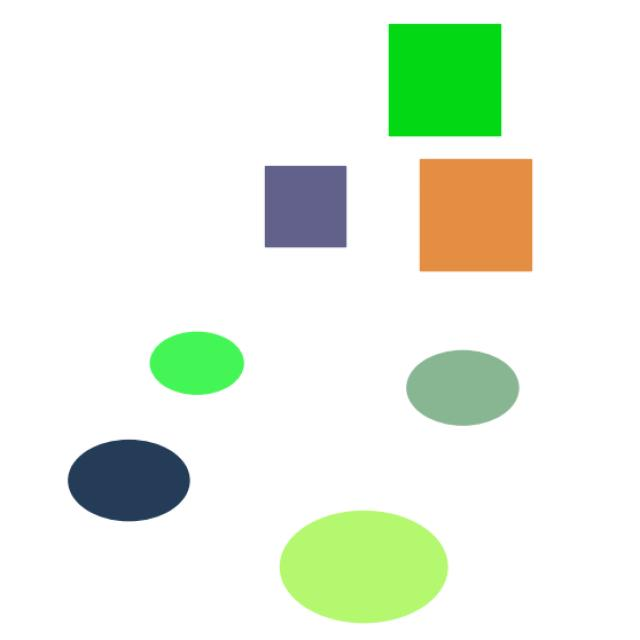Oval: (258, 506, 475, 636), (53, 418, 211, 552), (384, 338, 534, 439), (146, 322, 267, 409)
square: (409, 149, 549, 293), (370, 15, 522, 144), (248, 146, 366, 269)
